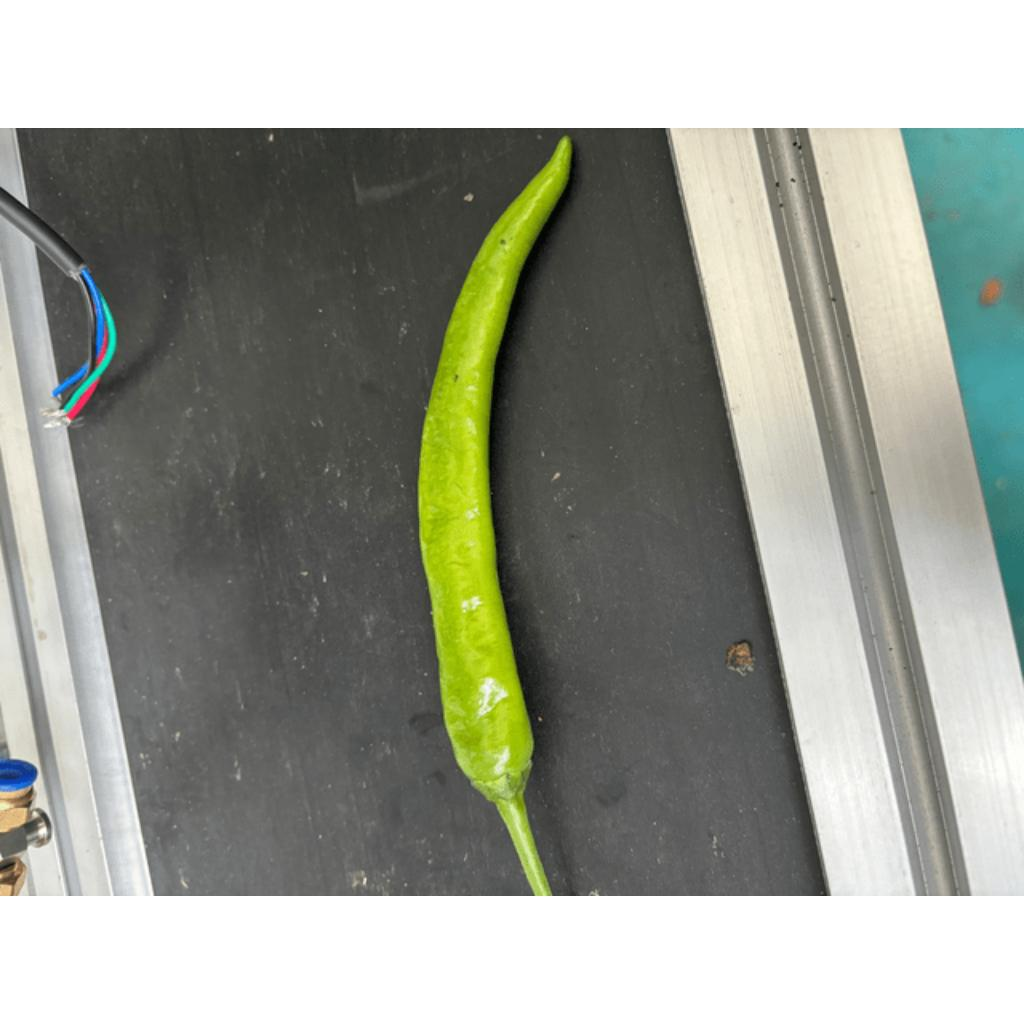chili: (417, 130, 574, 805)
